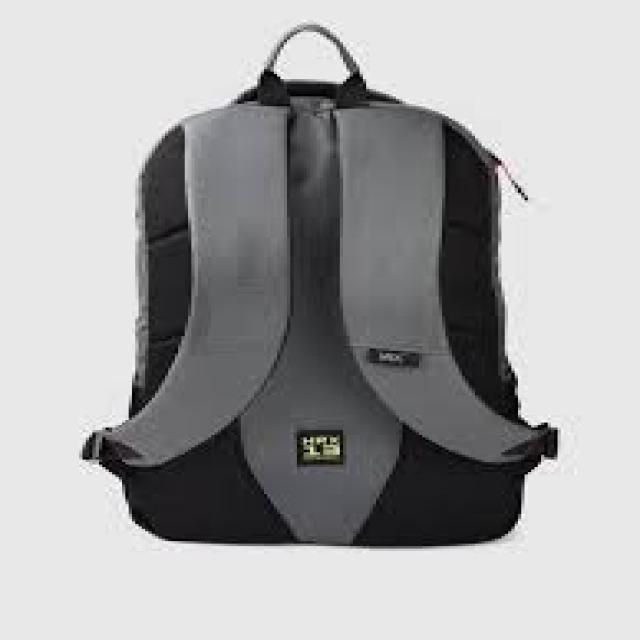backpack: (80, 21, 559, 547)
